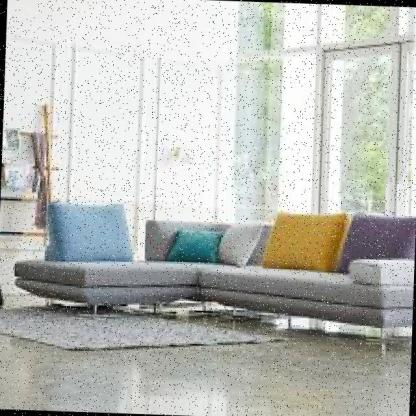Sofa: (2, 187, 416, 373)
